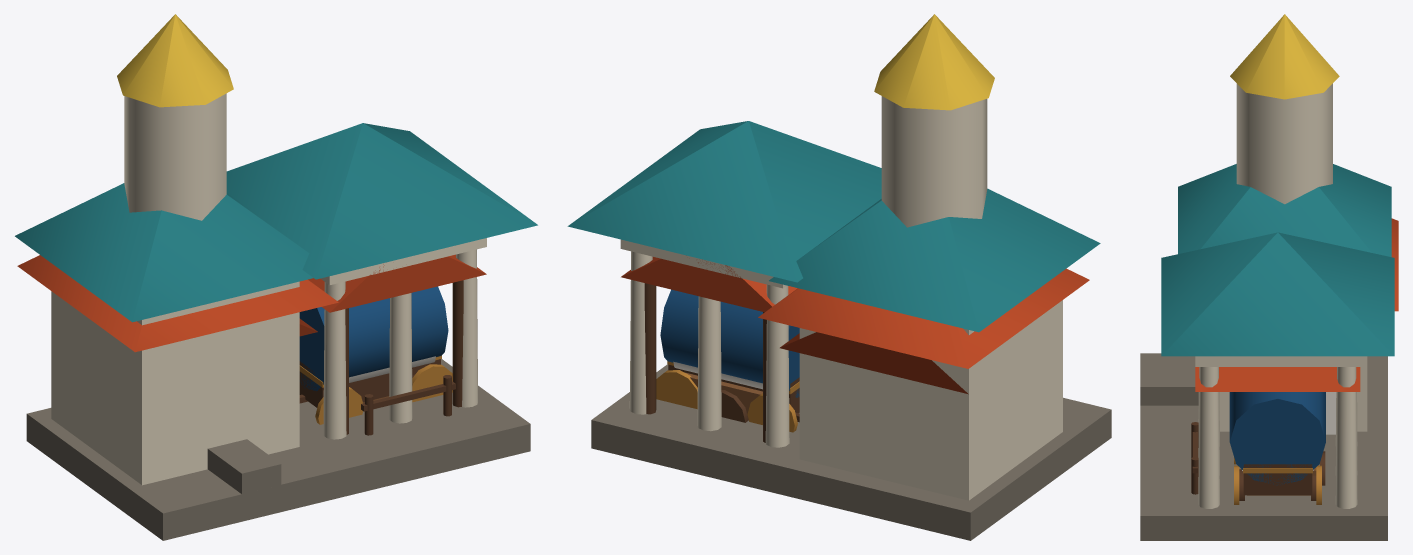
Rendered from road_depot.glb.
The picture shows the model from 3 angles, left to right: view 1: azimuth 30°, elevation 25°; view 2: azimuth 150°, elevation 25°; view 3: azimuth 270°, elevation 25°; orthographic projection. The views are drawn at different scales.
Parts seen in each view (by area): view 1: visual_level_3, visual_level_2, visual_level_1; view 2: visual_level_3, visual_level_2, visual_level_1; view 3: visual_level_3, visual_level_2, visual_level_1.
Part boxes in pixels (x1,y1,x2,y2): visual_level_3: (15, 14, 537, 540); visual_level_2: (17, 254, 530, 540); visual_level_1: (299, 318, 455, 435); visual_level_3: (567, 14, 1111, 523); visual_level_2: (591, 257, 1111, 540); visual_level_1: (685, 332, 968, 422); visual_level_3: (1140, 14, 1394, 540); visual_level_2: (1140, 218, 1398, 540); visual_level_1: (1191, 392, 1336, 495).
Size of what is drawn, in the model's own units: 6.05 by 6.5 by 3.76.
